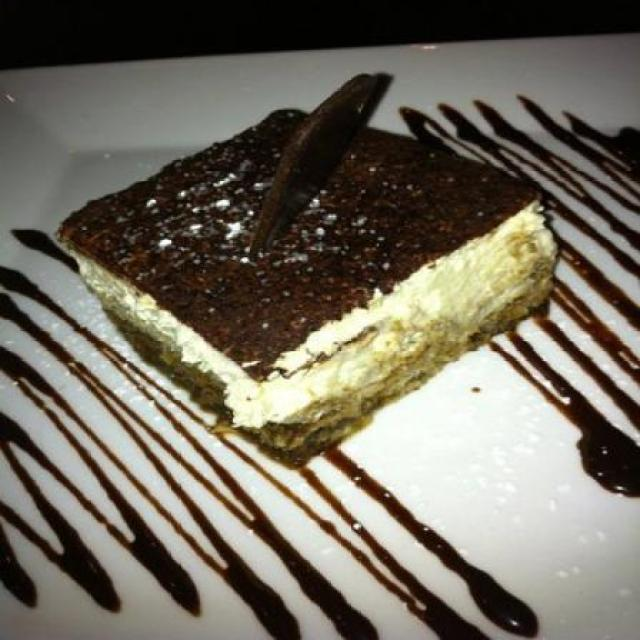Tiramisu: (66, 98, 558, 448)
